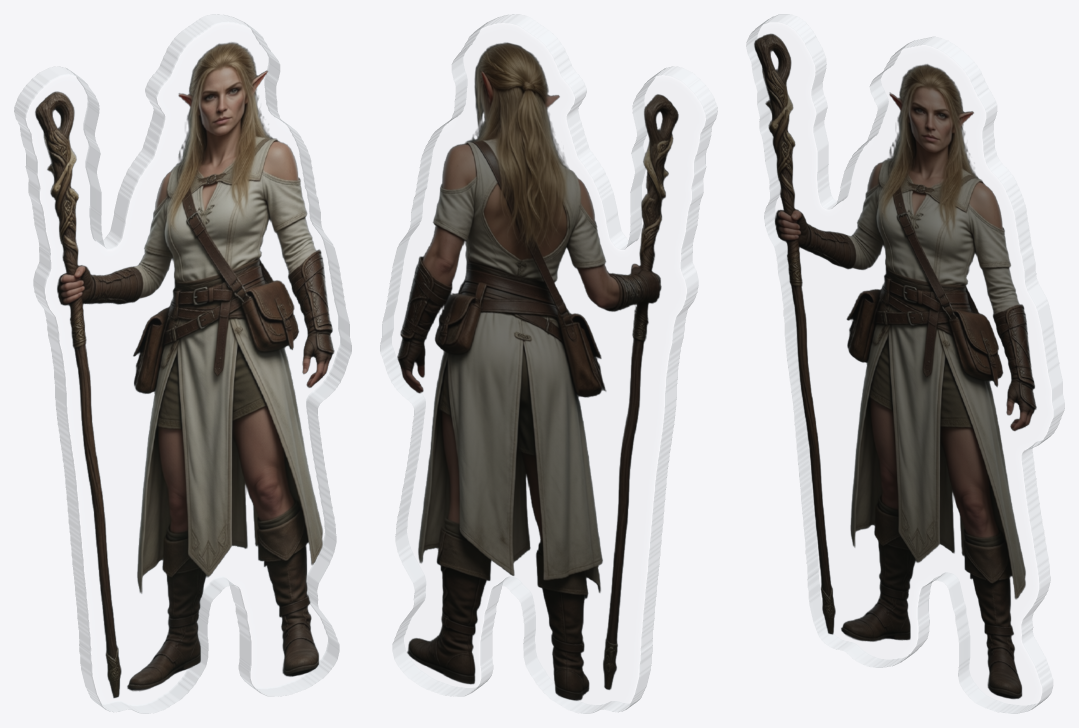
The model's file is maren-v64.glb.
3 renders of one model, left to right at view 1: azimuth 30°, elevation 25°; view 2: azimuth 150°, elevation 25°; view 3: azimuth 330°, elevation 25°, orthographic. The views are drawn at different scales.
Parts seen in each view (by area): view 1: maren_standee_v64; view 2: maren_standee_v64; view 3: maren_standee_v64.
Boxes of the visible parts, left/top/right/bottom form: maren_standee_v64: left=14, top=14, right=351, bottom=713; maren_standee_v64: left=380, top=14, right=717, bottom=713; maren_standee_v64: left=746, top=14, right=1064, bottom=713.
Size of the model in its own units: 0.6051 by 1.22 by 0.04.
3 materials, 2 textured.
